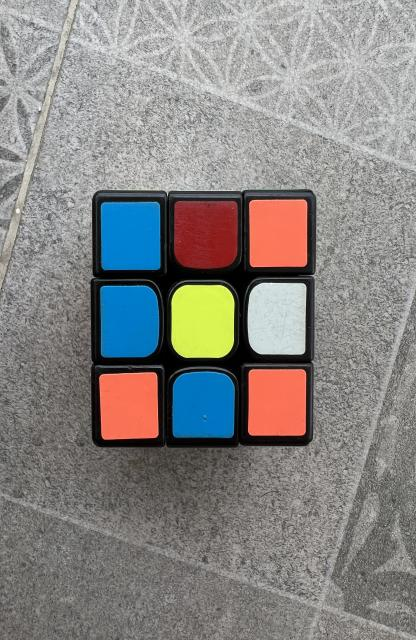Blue: (100, 285, 159, 358), (172, 371, 235, 438), (101, 202, 160, 270)
Orange: (249, 199, 308, 268), (248, 369, 307, 436), (100, 372, 158, 440)
Red: (174, 201, 237, 269)
White: (247, 282, 307, 355)
Yellow: (171, 285, 235, 358)
